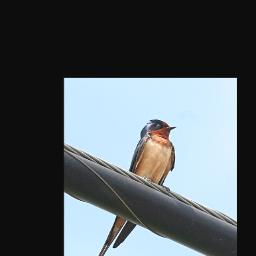Swallow: (89, 118, 177, 256)
